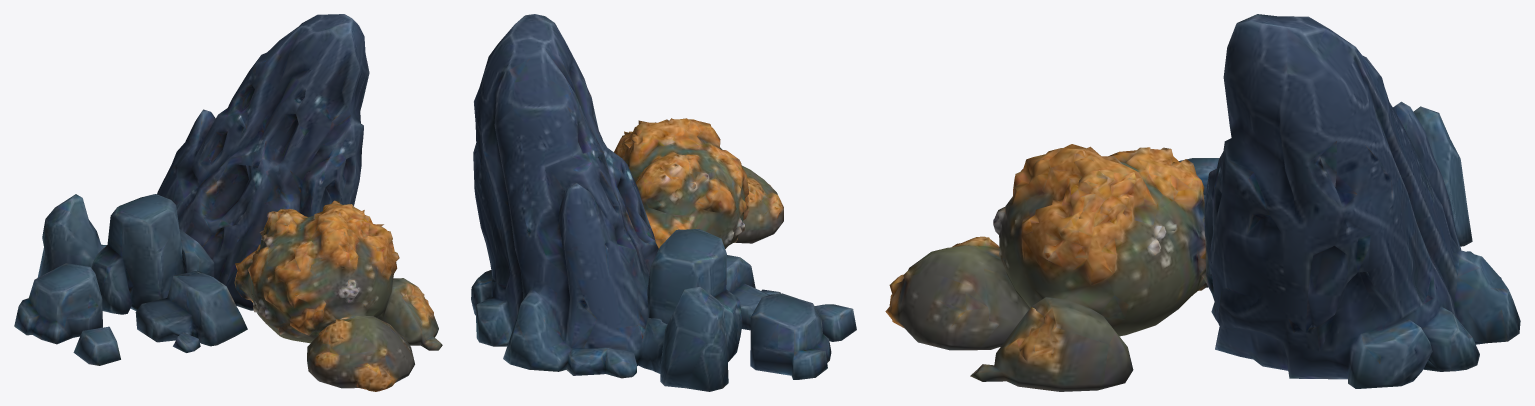
The model's file is searock.glb.
3 renders of one model, left to right at view 1: azimuth 30°, elevation 25°; view 2: azimuth 150°, elevation 25°; view 3: azimuth 270°, elevation 25°, orthographic. The views are drawn at different scales.
Parts seen in each view (by area): view 1: prop_lo; view 2: prop_lo; view 3: prop_lo.
Boxes of the visible parts, left/top/right/bottom form: prop_lo: left=14, top=14, right=442, bottom=391; prop_lo: left=471, top=14, right=856, bottom=391; prop_lo: left=885, top=14, right=1520, bottom=391.
Bounding box in the file's own units: 1.66 × 1.2 × 1.91.
Materials: 1 (1 with a texture image).
